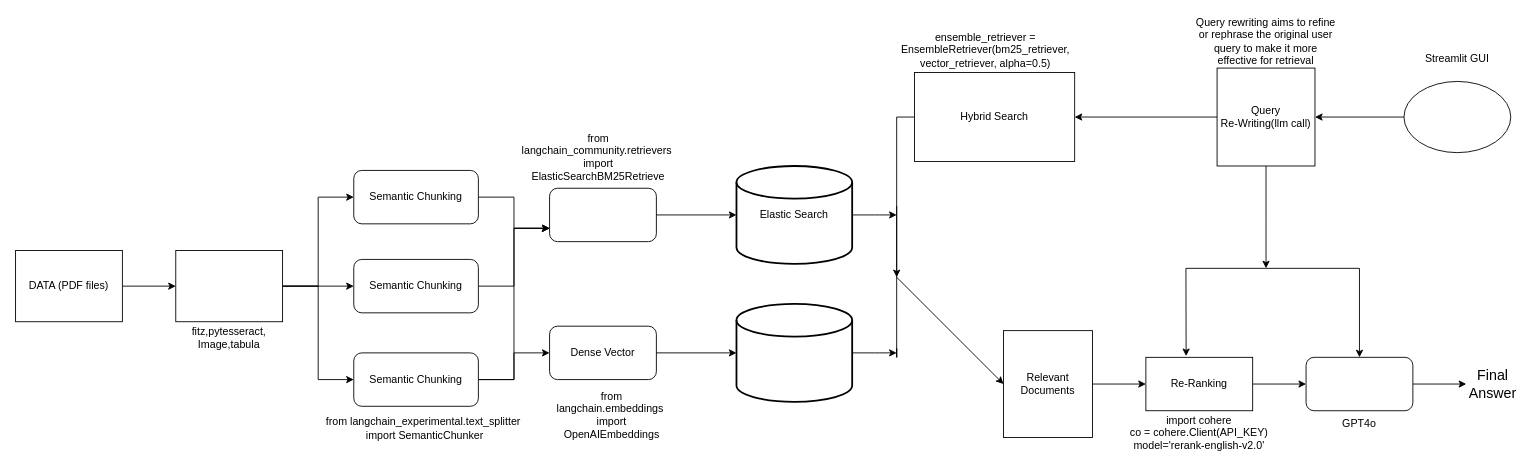
Image size: 1535x474. Some labels were removed from this diagram. The shapes that lost their labels are listed below. From the top down, each one's centre as x and y in pixels, then its label:
pixel 1457 117: User Query
pixel 602 214: Sparse Vector
pixel 229 286: Text data extraction from PDF data (Images, Tables, Text)
pixel 794 352: Pinecone Vector Database
pixel 1359 383: LLM
